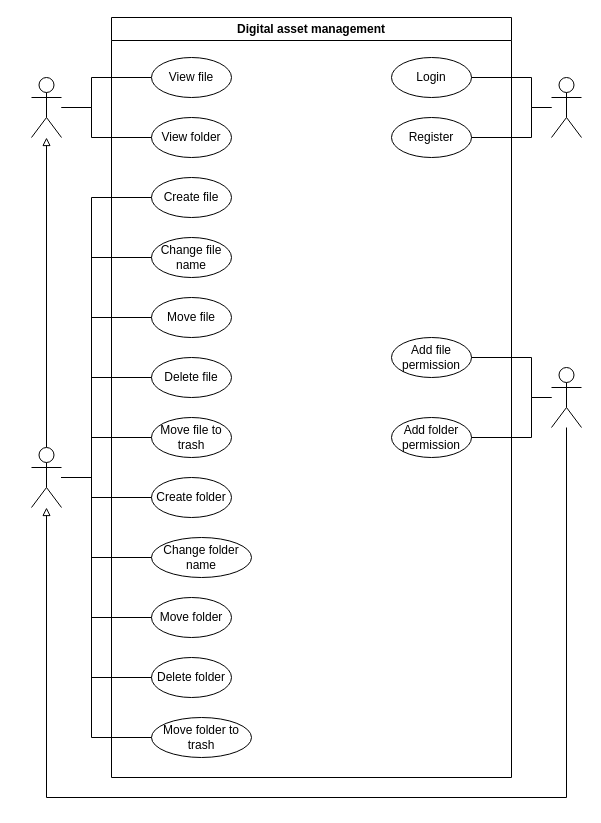
Image size: 601x823. Some labels were removed from this diagram. The shapes that lost their labels are listed below. From the top down, each one's centre as x and y in pixels, then its label:
At (46,107): "Reader".
At (566,107): "Guest".
At (566,397): "Admin".
At (46,477): "Contributor".
